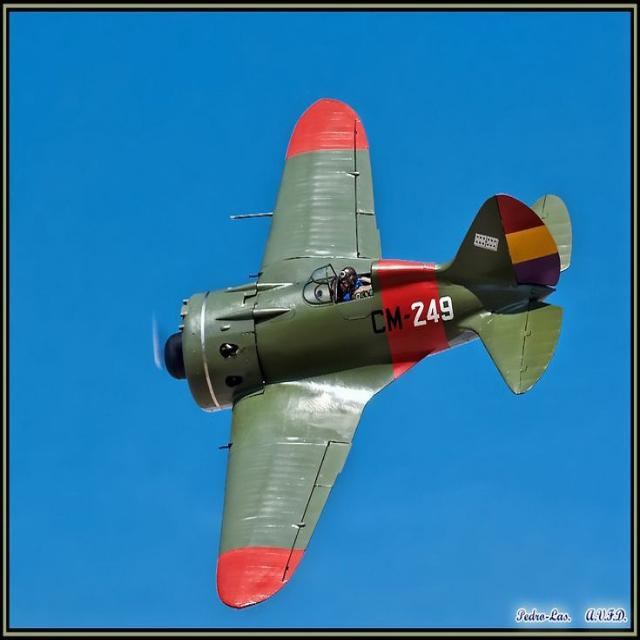iha: (150, 95, 579, 610)
